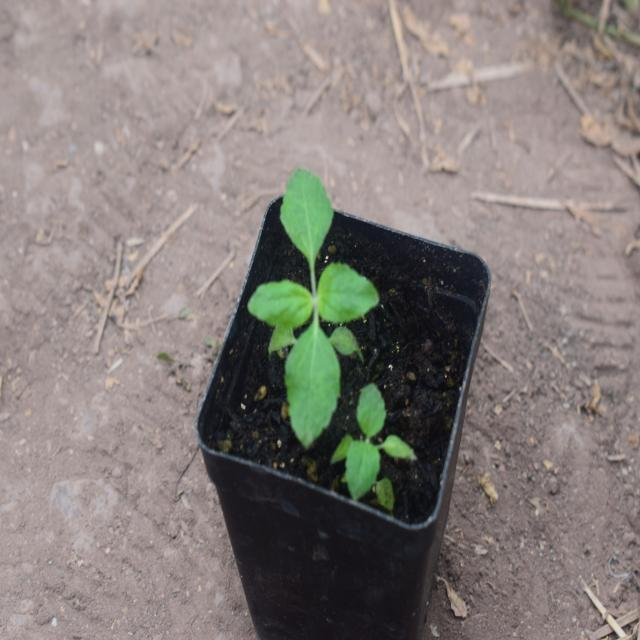billygoat_weed: (235, 178, 368, 443)
